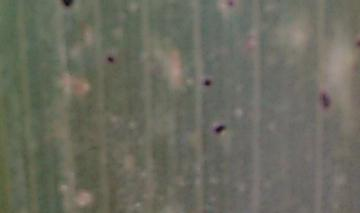tarspot: (320, 93, 331, 109), (104, 54, 116, 65), (61, 1, 74, 10), (213, 125, 226, 134), (202, 78, 211, 88), (226, 1, 236, 9), (355, 38, 360, 48)
